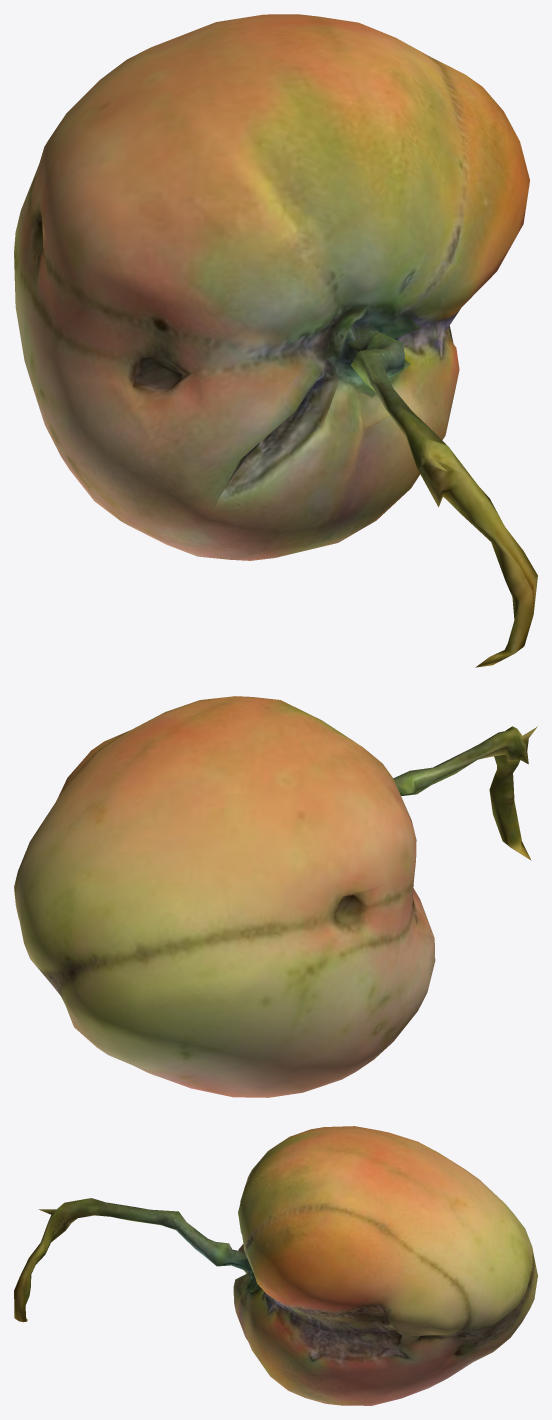
The model's file is tomatorotten.glb.
3 renders of one model, top to bottom at view 1: azimuth 30°, elevation 25°; view 2: azimuth 150°, elevation 25°; view 3: azimuth 270°, elevation 25°, orthographic. The views are drawn at different scales.
Parts seen in each view (by area): view 1: tomatorotten.022; view 2: tomatorotten.022; view 3: tomatorotten.022.
Boxes of the visible parts, x1=… form: tomatorotten.022: x1=14, y1=14, x2=537, y2=667; tomatorotten.022: x1=14, y1=696, x2=537, y2=1097; tomatorotten.022: x1=14, y1=1126, x2=537, y2=1405.
Bounding box in the file's own units: 0.0422 × 0.0437 × 0.0779.
Materials: 1 (1 with a texture image).
